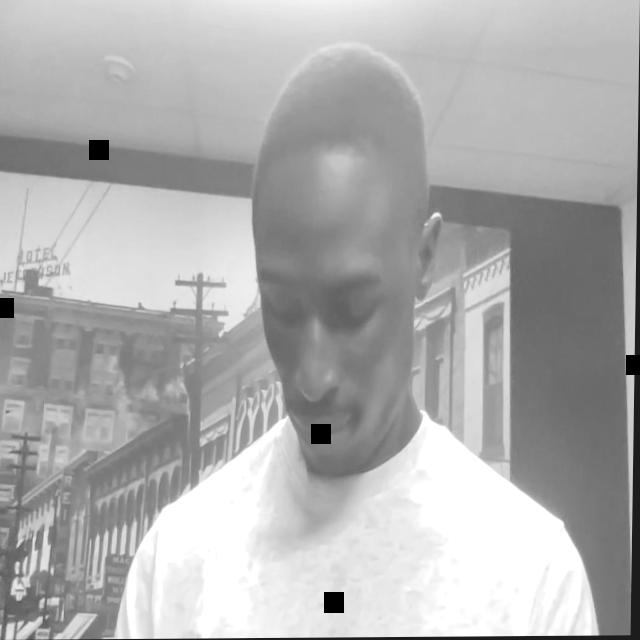NO-Mask: (252, 170, 442, 480)
